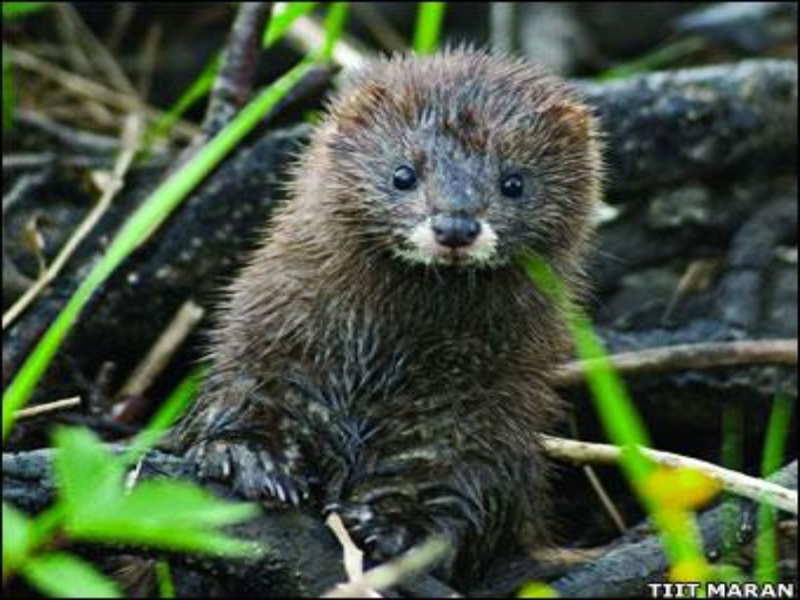minkish: (176, 42, 607, 573)
